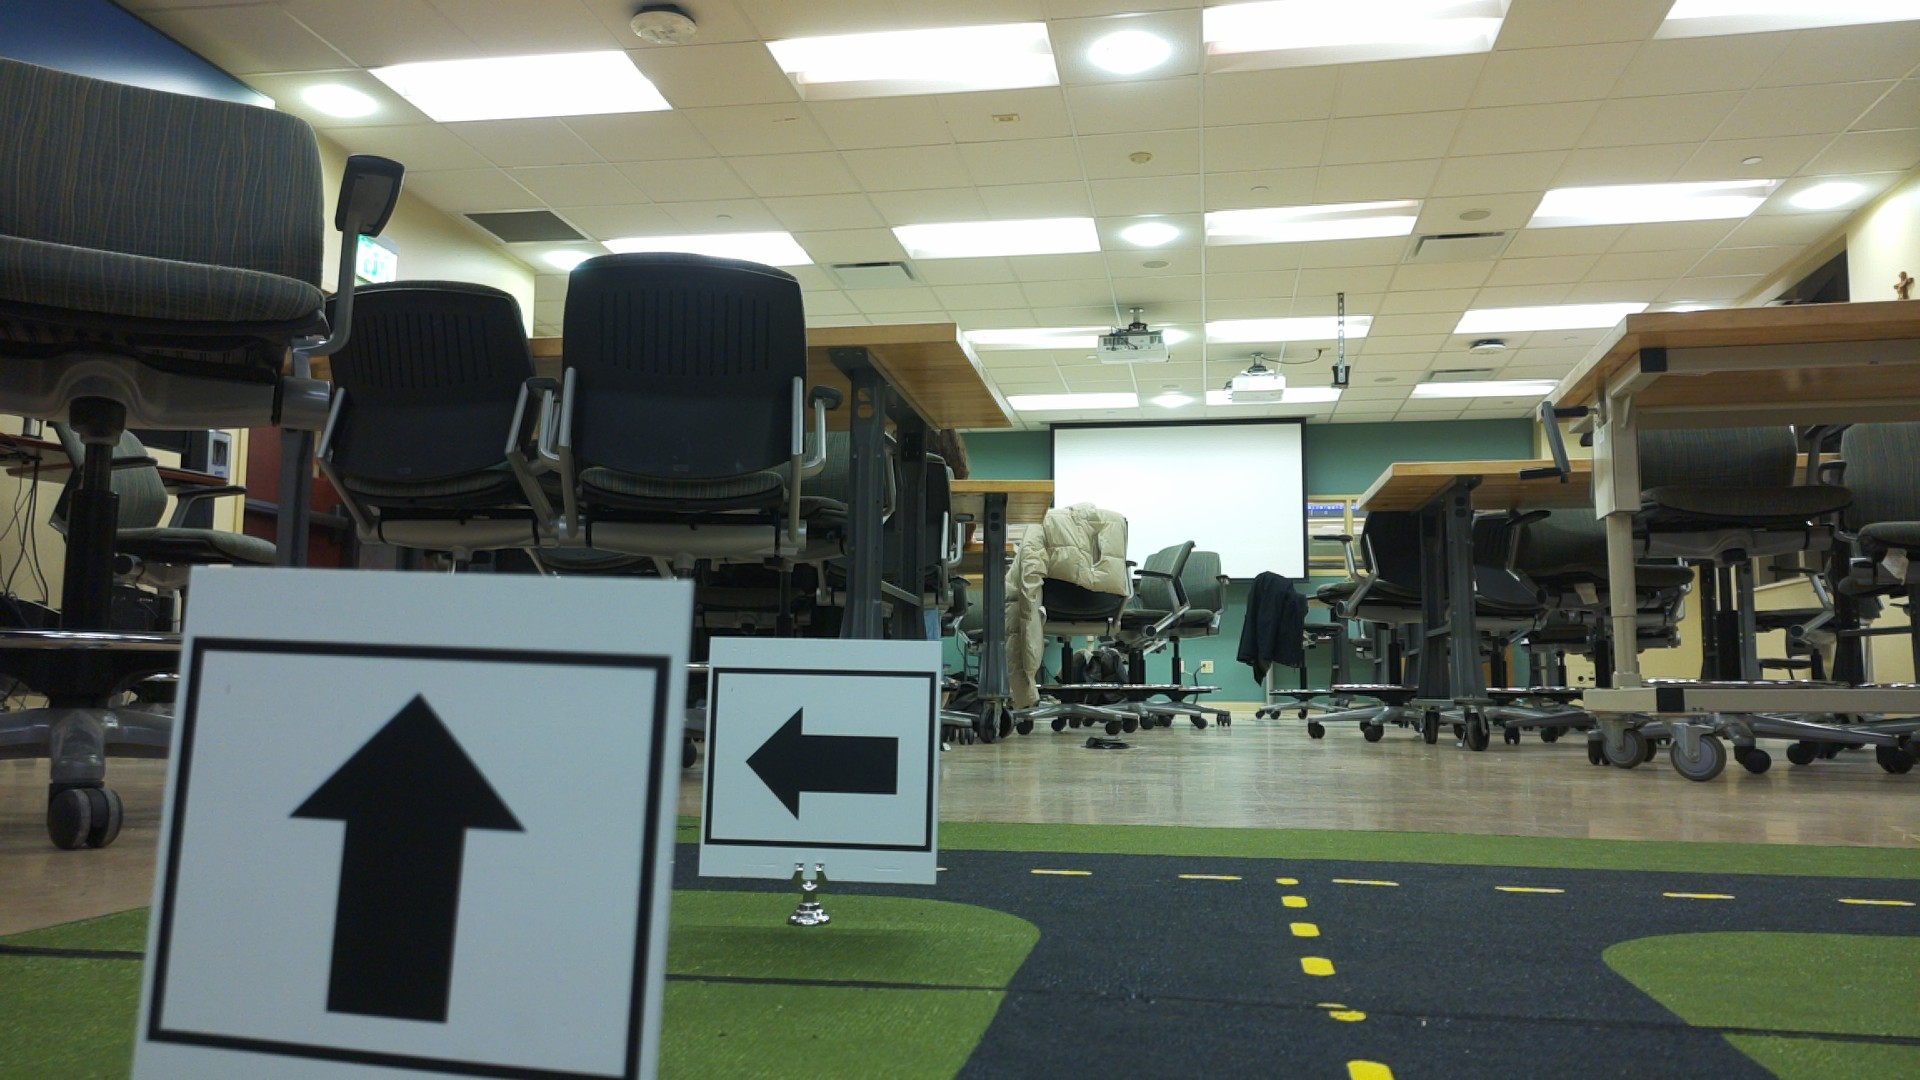gostraight: (194, 589, 655, 1065)
turnleft: (713, 646, 944, 884)
